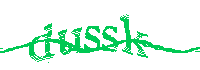d: (29, 23, 53, 61)
k: (120, 14, 148, 57)
s: (102, 25, 119, 53), (84, 25, 100, 52)
u: (58, 26, 81, 56)
